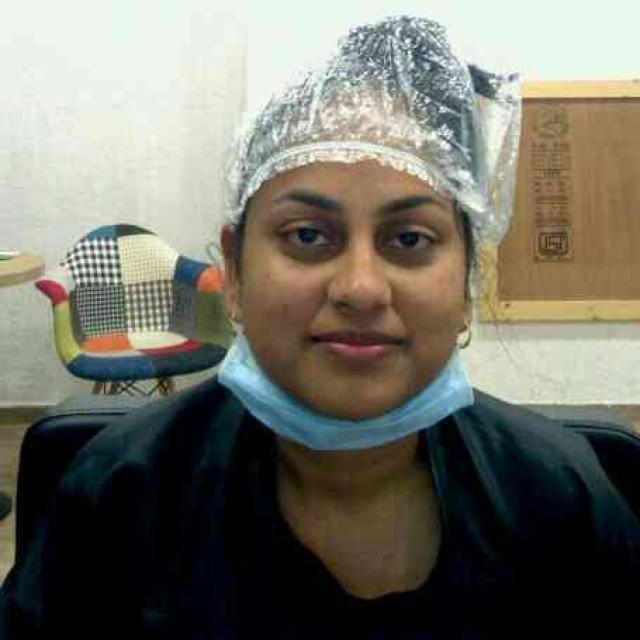Puffy Eyes - v3 Dark Circle: (284, 232, 347, 261), (378, 246, 436, 267)
